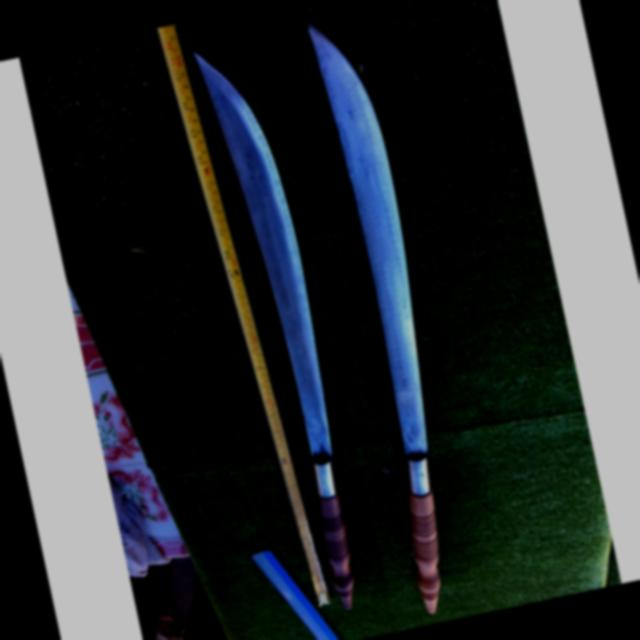long sword: (297, 5, 516, 615), (190, 35, 376, 617)
